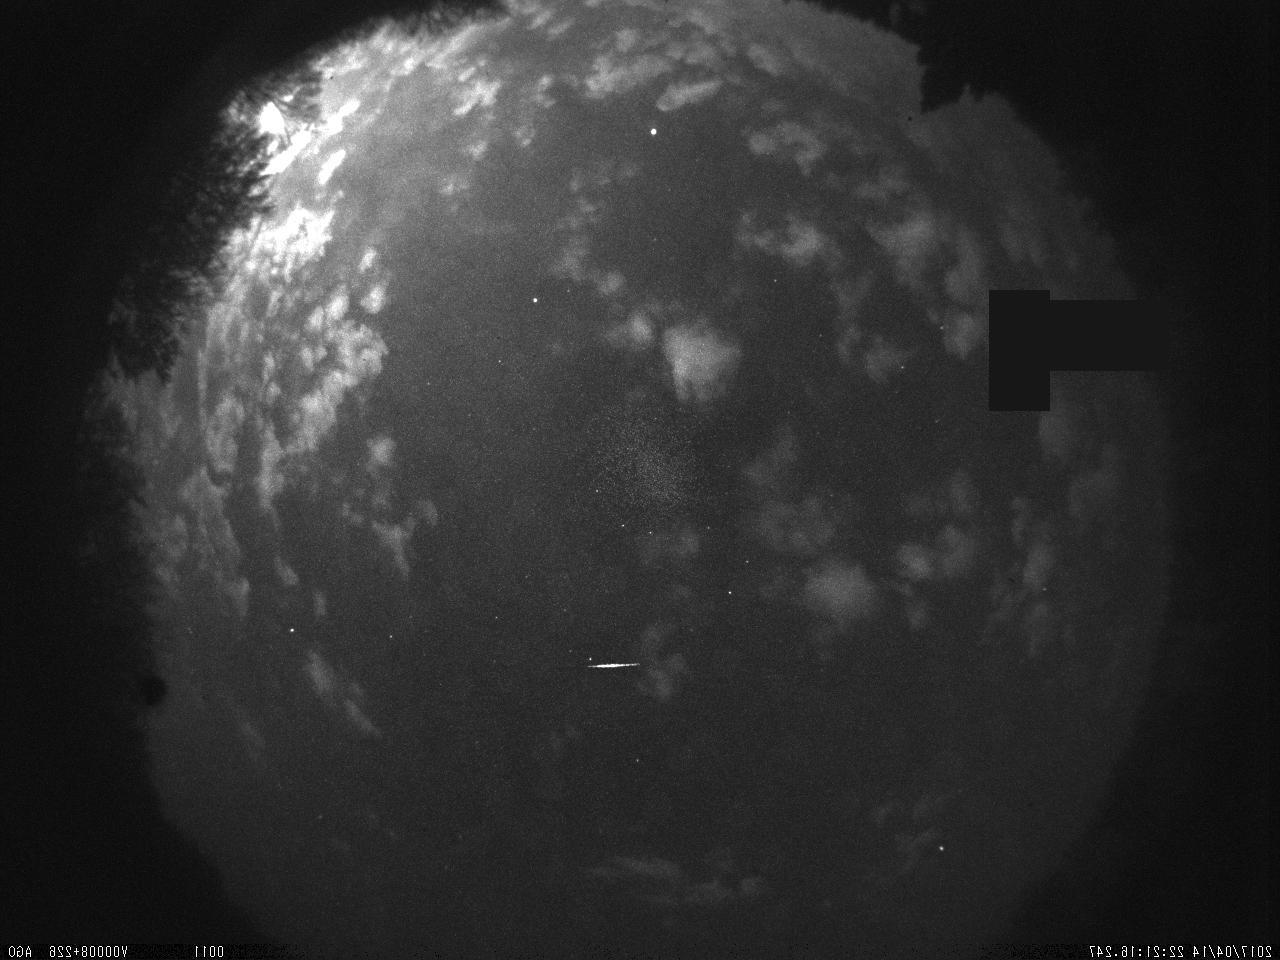meteor: (579, 657, 647, 678)
